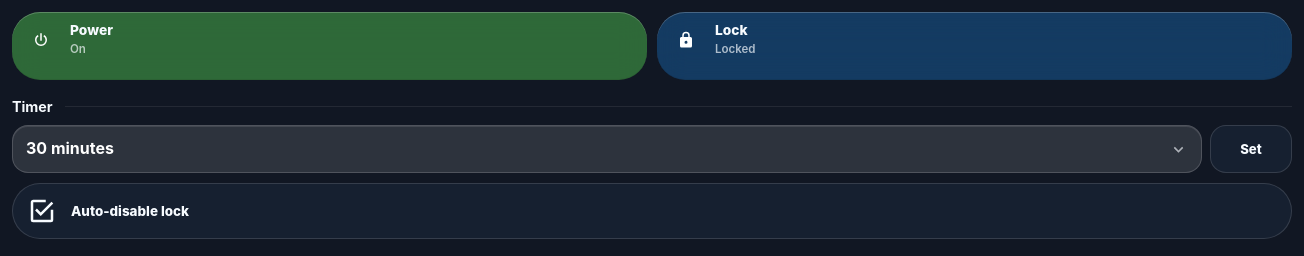
it: BathroomFanModalContent › starts a timer from the fixed duration dropdown with an auto-checked lock choice
Expected: the label named "Timer" holds "30", [12, 125, 1202, 173]
Expected: the button "Clear" is not shown
Click the checkbox labelled "Auto-disable lock" at (130, 211), box [12, 183, 1292, 239]
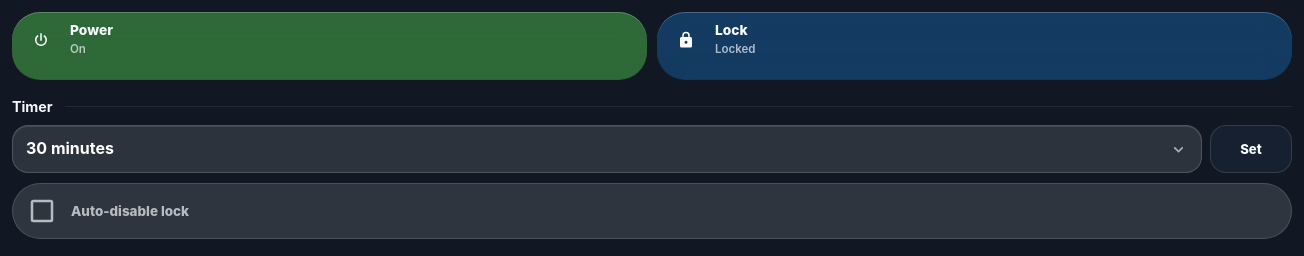
Now the checkbox labelled "Auto-disable lock" is not checked
Click the checkbox labelled "Auto-disable lock" at (130, 211), box [12, 183, 1292, 239]
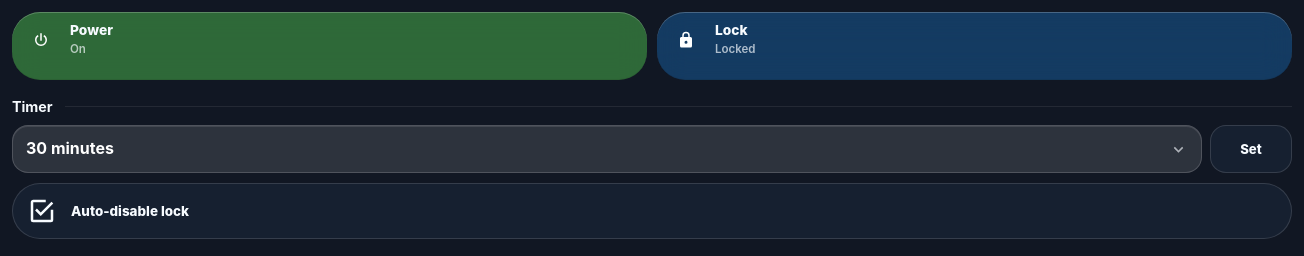
Now the checkbox labelled "Auto-disable lock" is checked, box [12, 183, 1292, 239]
Select "1 hour" in the dropdown named "Timer" at (607, 149), box [12, 125, 1202, 173]
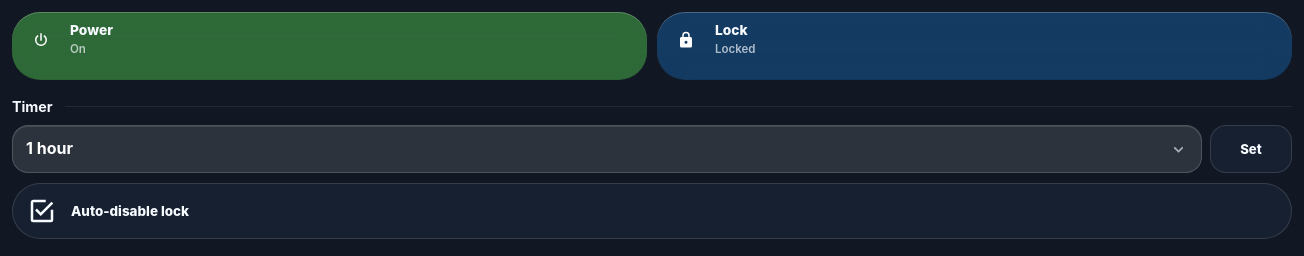
Click the button "Set" at (1251, 149), box [1210, 125, 1292, 173]
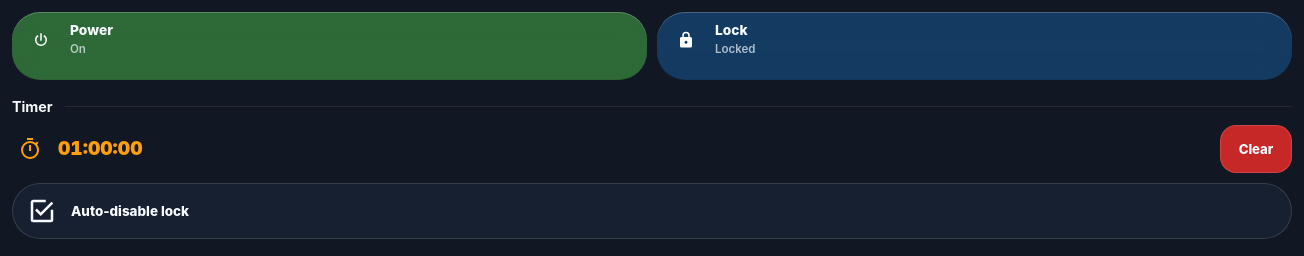
Now the button "Clear" is shown, box [1220, 125, 1292, 173]
Now the text "1 hour Set" is gone
Now the button "Set" is gone
